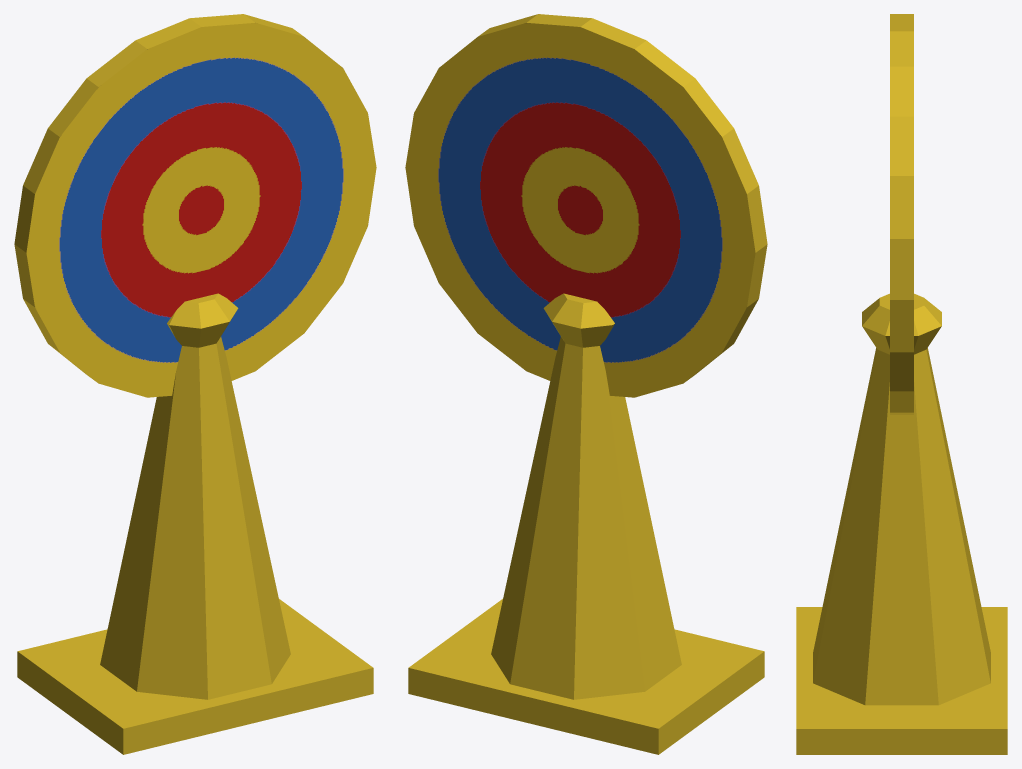
File: target_yellow.glb
The picture shows the model from 3 angles, left to right: view 1: azimuth 30°, elevation 25°; view 2: azimuth 150°, elevation 25°; view 3: azimuth 270°, elevation 25°; orthographic projection.
Visible parts, largest first — view 1: target_yellow; view 2: target_yellow; view 3: target_yellow.
Part boxes in pixels (bbox=[...]): target_yellow: bbox=[14, 14, 376, 754]; target_yellow: bbox=[405, 14, 767, 754]; target_yellow: bbox=[796, 14, 1007, 754].
Size of the model in its own units: 2.55 by 4.62 by 1.34.
Materials: 1 (1 with a texture image).
